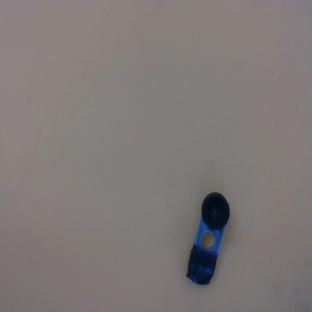part_1_bad: (182, 189, 234, 287)
